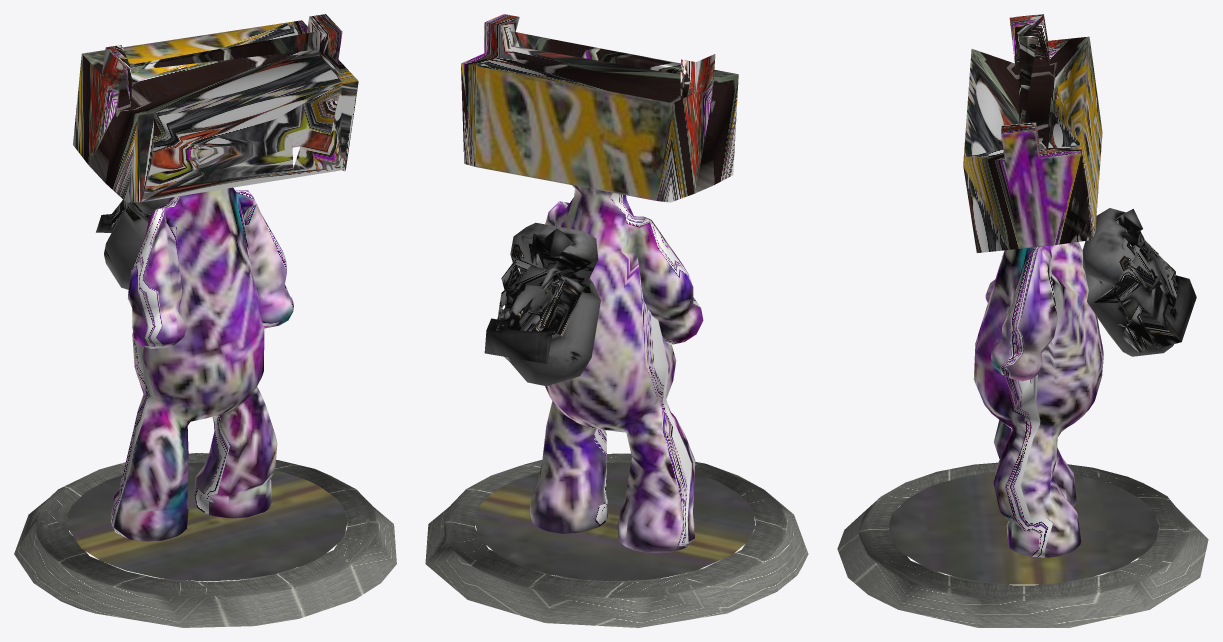
3 renders of one model, left to right at view 1: azimuth 30°, elevation 25°; view 2: azimuth 150°, elevation 25°; view 3: azimuth 270°, elevation 25°, orthographic. The views are drawn at different scales.
Bounding box in the file's own units: 1.42 × 2.12 × 1.44.
5 materials, 5 textured.
